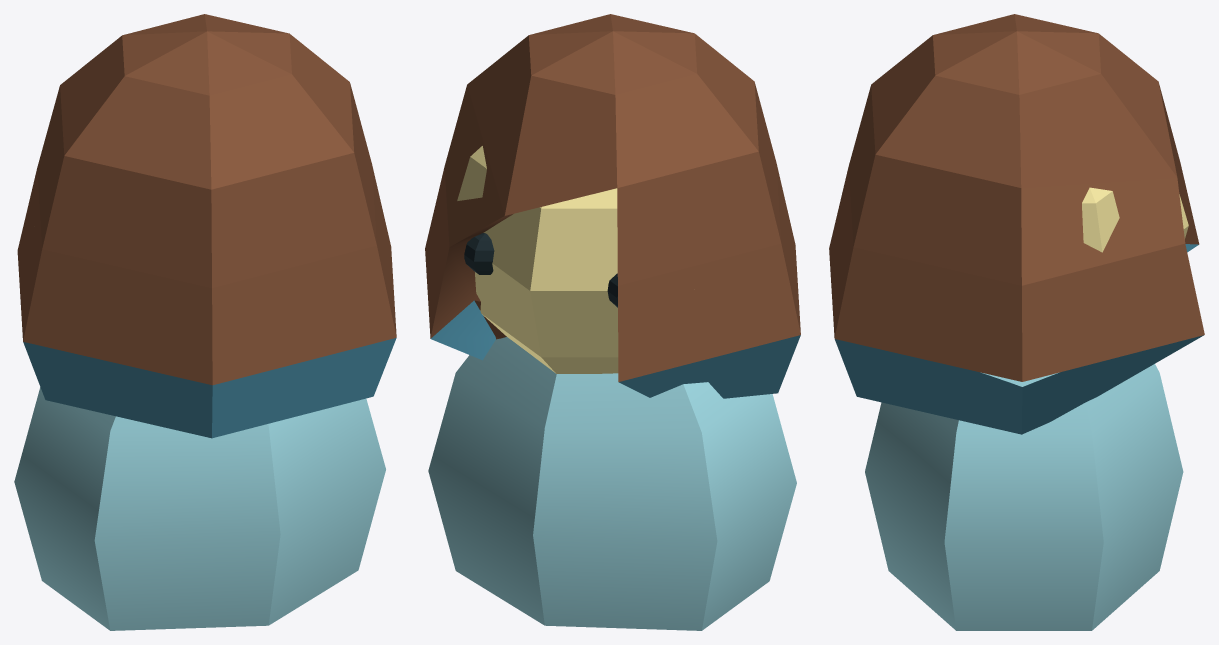
File: KayeDoll_Mesh.fbx
The picture shows the model from 3 angles, left to right: view 1: azimuth 30°, elevation 25°; view 2: azimuth 150°, elevation 25°; view 3: azimuth 270°, elevation 25°; orthographic projection.
Visible parts, largest first — view 1: polySurface58; view 2: polySurface58; view 3: polySurface58.
Boxes of the visible parts, x1,y1,x2,y2 form: polySurface58: (14, 14, 396, 630); polySurface58: (425, 14, 800, 630); polySurface58: (829, 14, 1204, 630).
Bounding box in the file's own units: 2.61 × 3.64 × 2.29.
